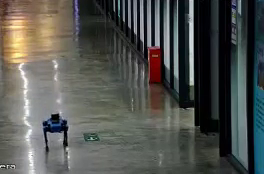robot dog: (41, 110, 69, 150)
